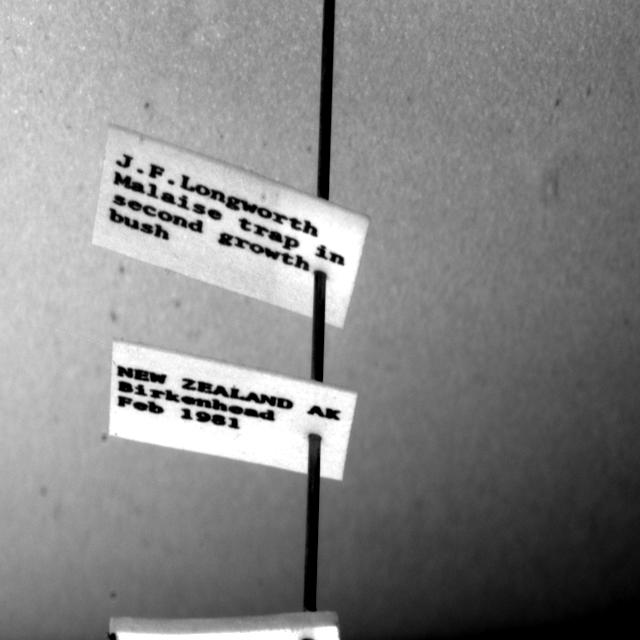typed_label: (92, 126, 369, 328), (109, 341, 356, 480)
